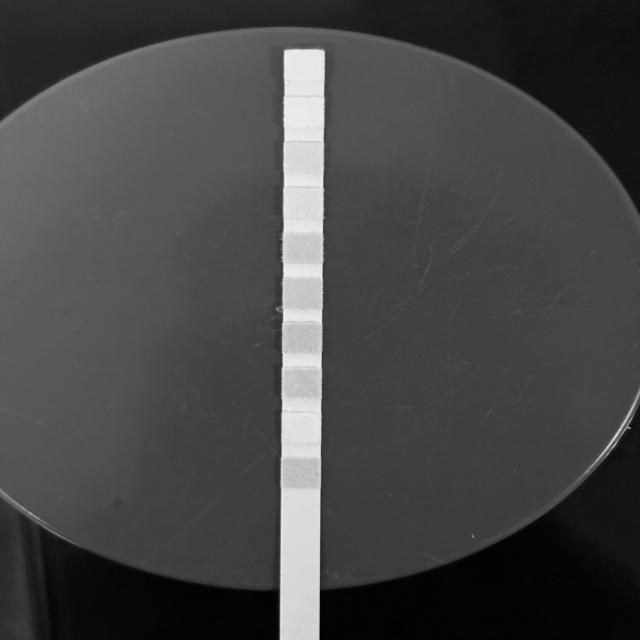Bilirubin: (284, 414, 319, 442)
Blood: (284, 280, 322, 308)
Glucose: (283, 459, 319, 487)
Ketone: (283, 369, 319, 397)
Leukocytes: (285, 52, 324, 80)
Nitrite: (284, 98, 323, 126)
Protein: (285, 190, 320, 218)
SpGravity: (284, 324, 320, 352)
Urobilinogen: (286, 144, 322, 172)
background: (0, 0, 640, 640)
pH: (285, 235, 321, 263)
strip: (280, 50, 324, 614)
